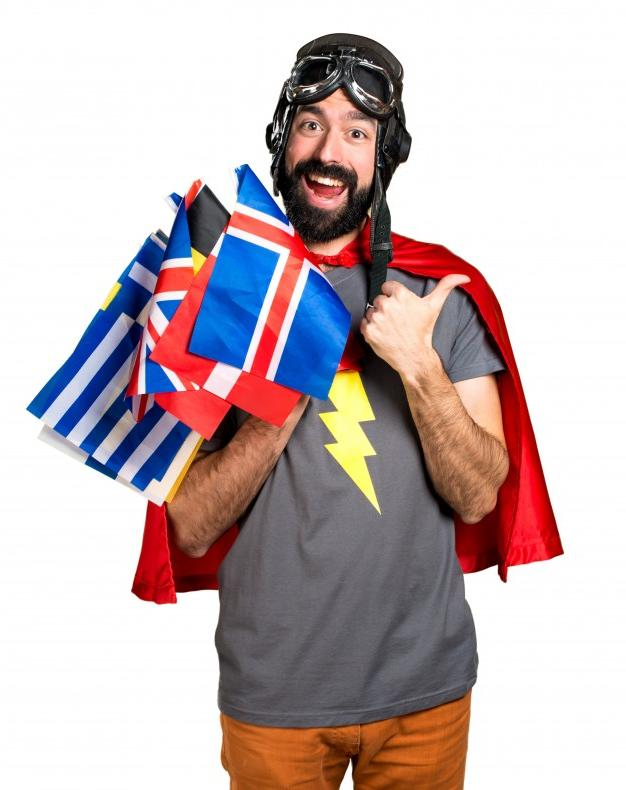thumbsup: (358, 273, 471, 340)
